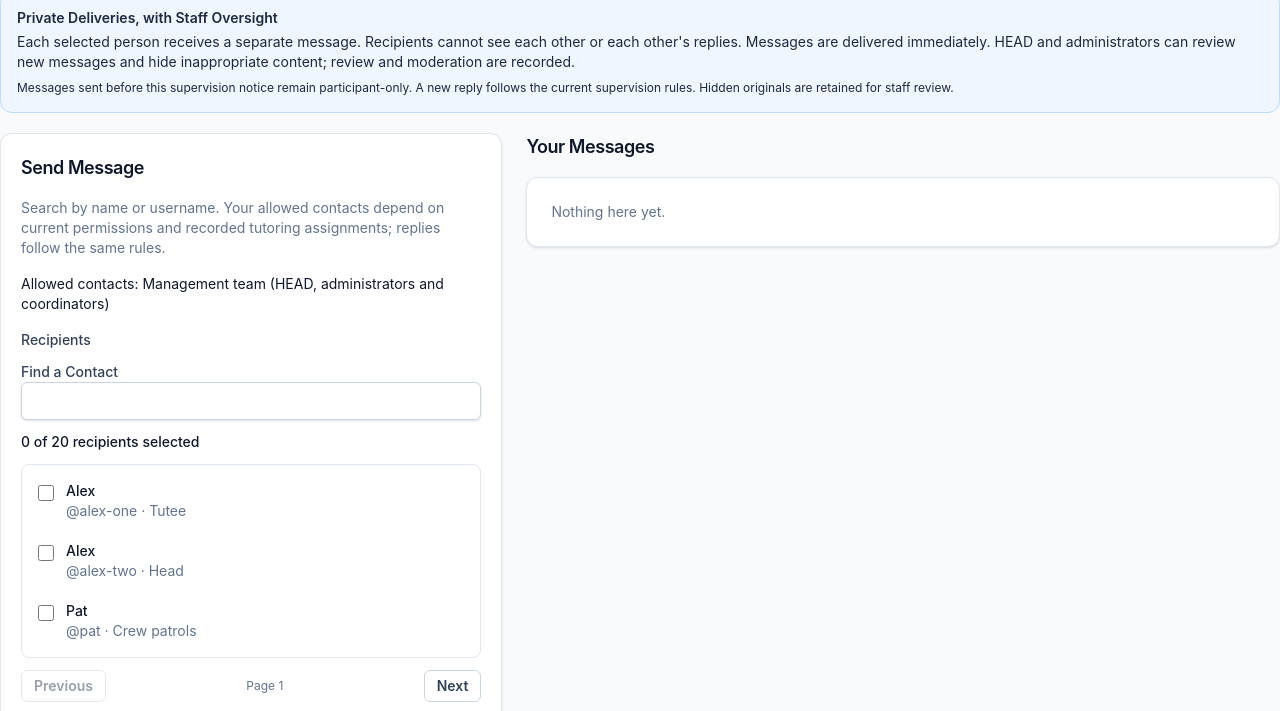
Test: paginates recipients while retaining selections and resets paging for a new search
Step 1. Click the checkbox labelled "Pat @pat · Crew patrols" → click(46, 613), box [38,605,54,621]
(page scrolled)
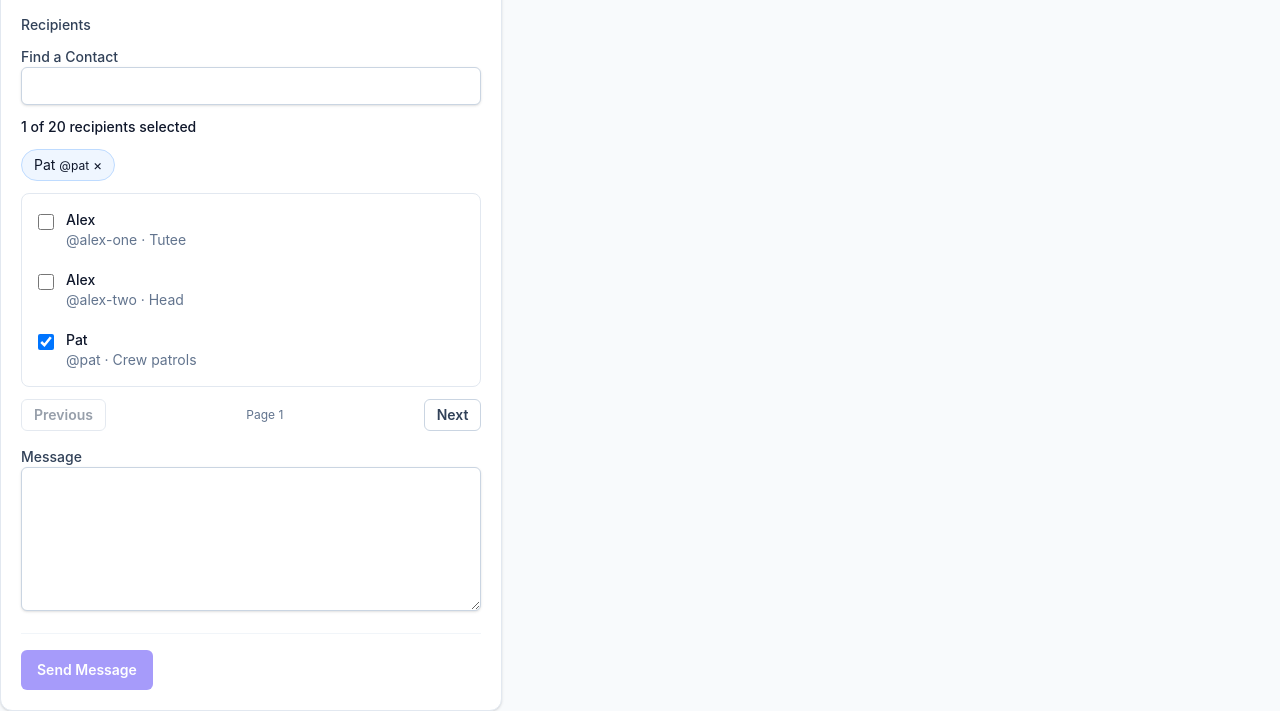
Step 2. Click the button "Next" → click(452, 415), box [424,399,481,431]
(page scrolled)
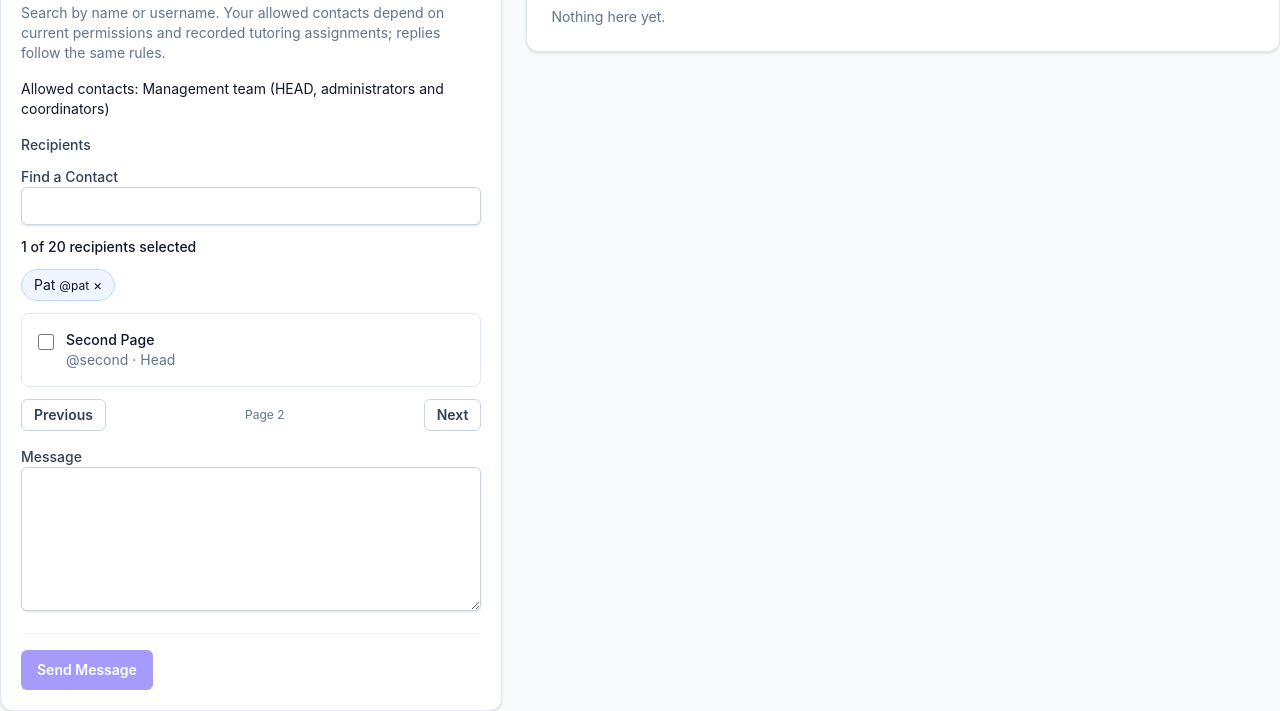
expect the checkbox labelled "Second Page @second · Head" is shown: met, box [38,334,54,350]
expect the button with aria-label "Remove Pat (@pat)" is shown: met, box [21,269,115,301]
Step 3. Type "Alex" into the field labelled "Find a Contact" → (251, 206), box [21,187,481,225]
(page scrolled)
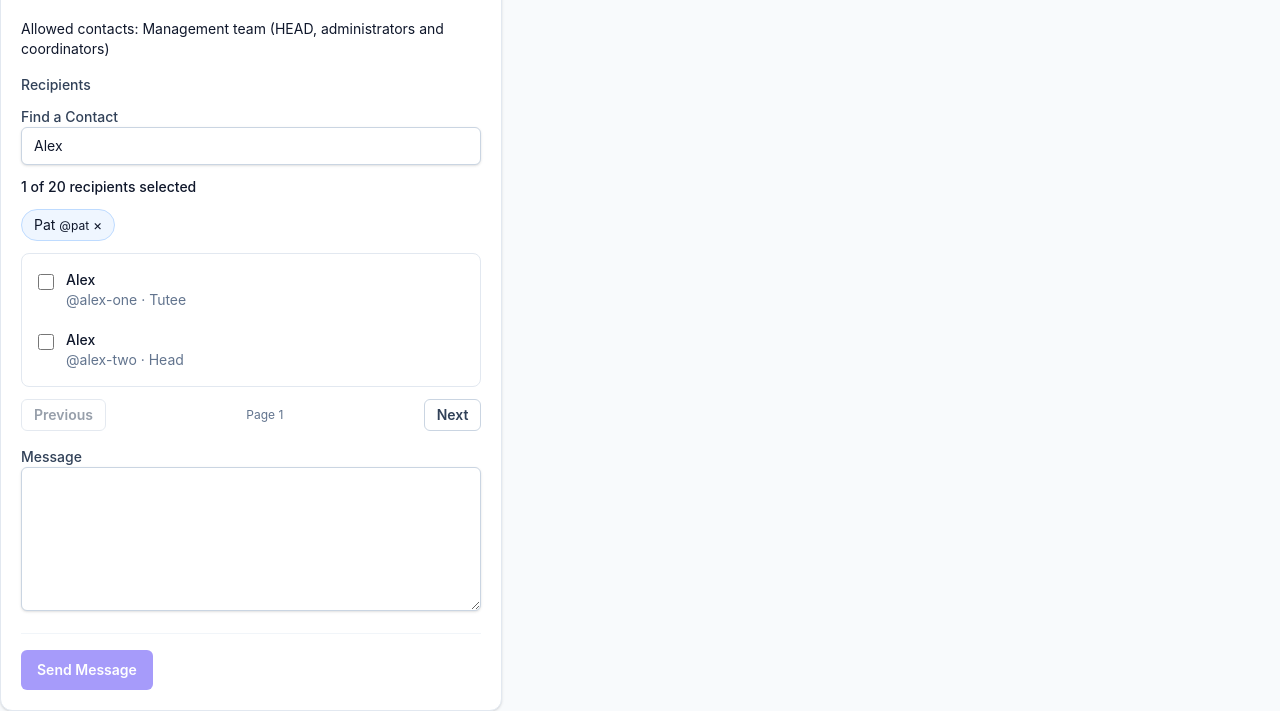
expect the number of checkboxes is 2: met, box [38,274,54,290]; [38,334,54,350]
